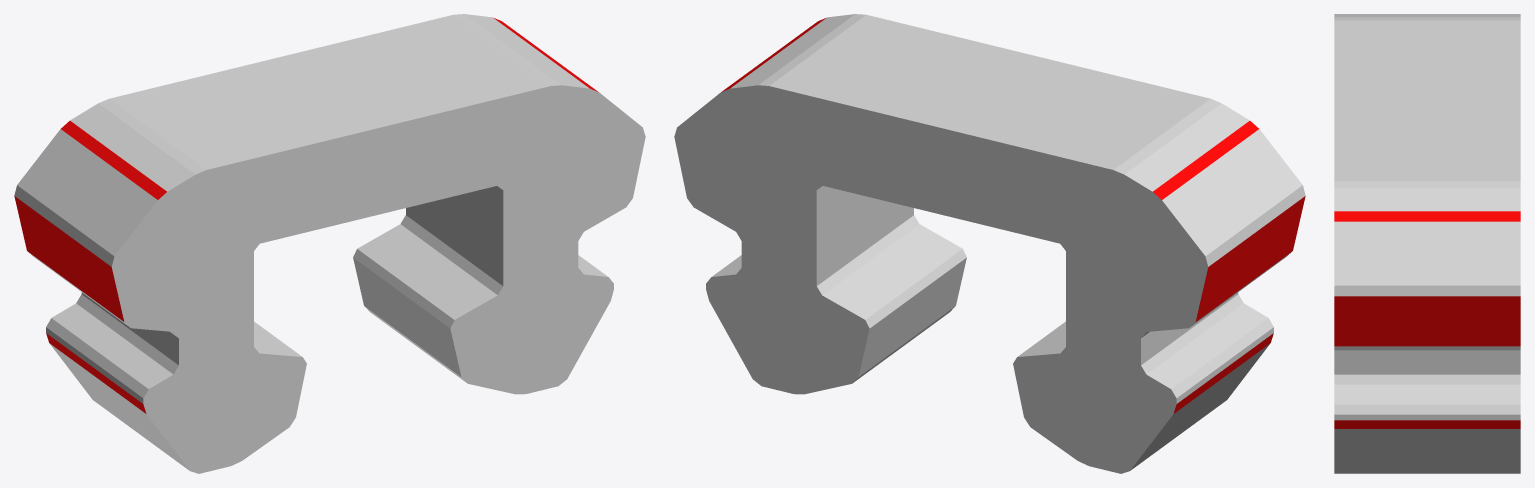
File: barrelpart.obj
3 renders of one model, left to right at view 1: azimuth 30°, elevation 25°; view 2: azimuth 150°, elevation 25°; view 3: azimuth 270°, elevation 25°, orthographic. The views are drawn at different scales.
Visible parts, largest first — view 1: object1; view 2: object1; view 3: object1.
Boxes of the visible parts, bbox=[...] form: object1: bbox=[14, 14, 645, 473]; object1: bbox=[674, 14, 1305, 473]; object1: bbox=[1334, 14, 1520, 473].
Bounding box in the file's own units: 18.82 × 10.17 × 5.95.
